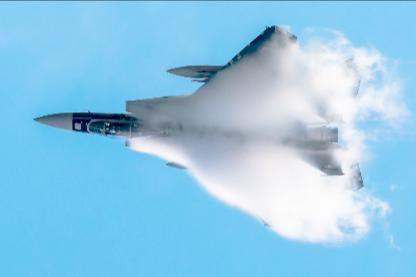F117: (31, 25, 364, 230)
